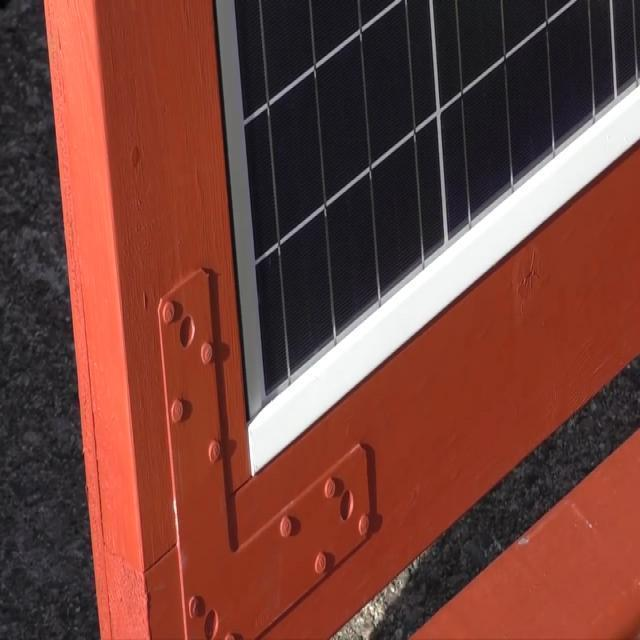Normal Solar Panel: (220, 0, 640, 411)
